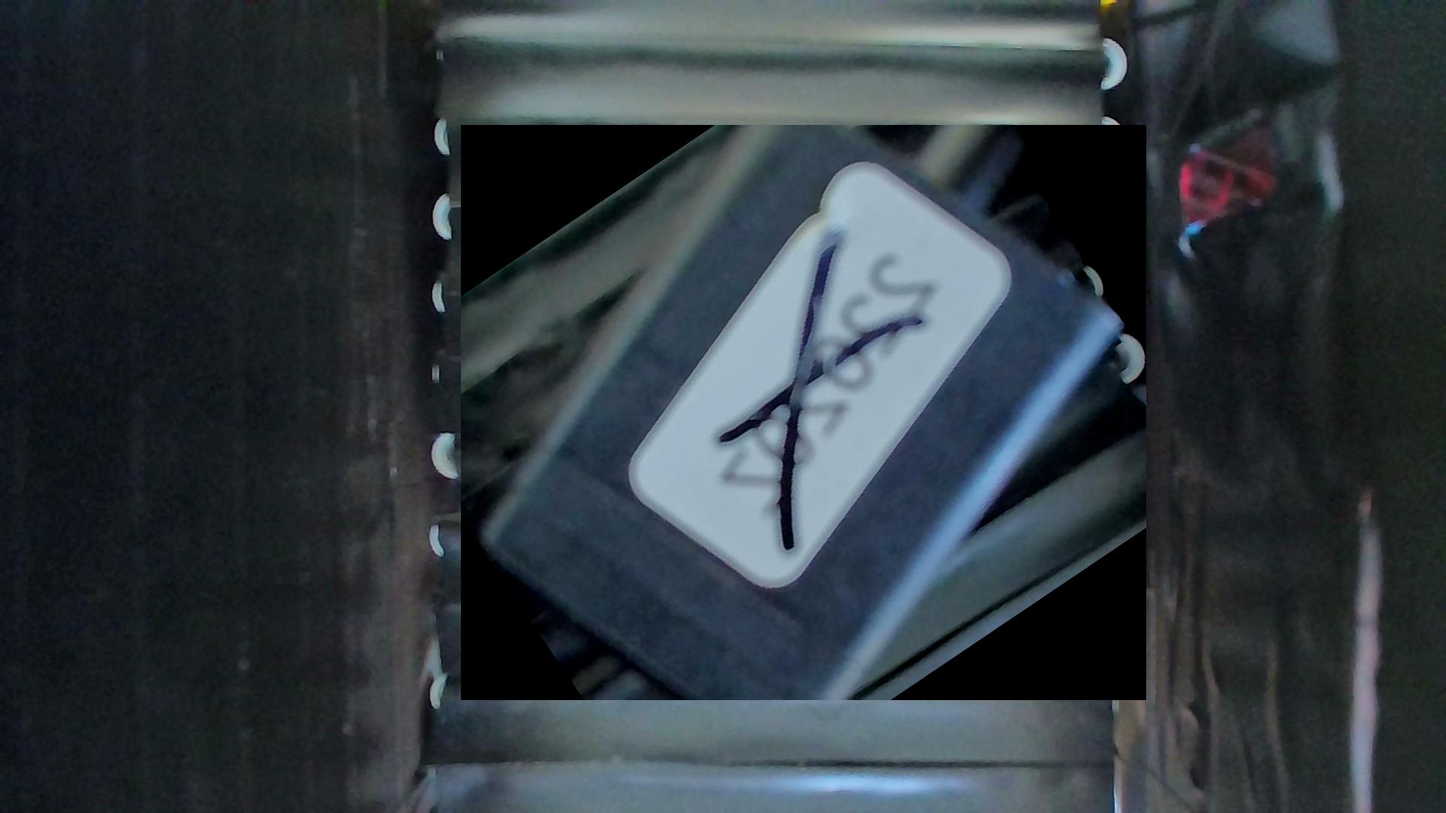motor: (461, 125, 1146, 700)
